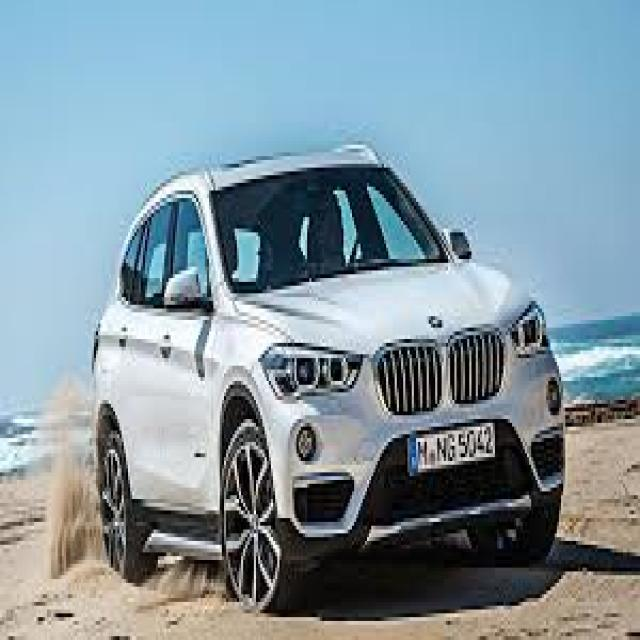SUV: (88, 152, 568, 609)
